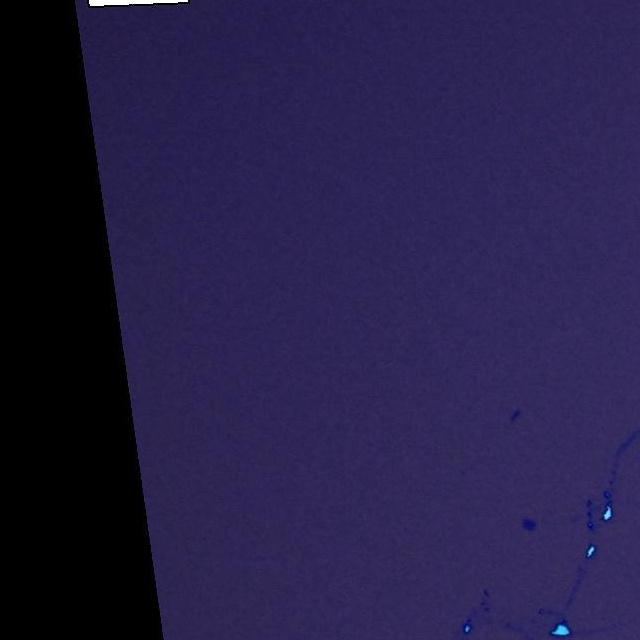monolayer-eWW4: (522, 518, 535, 530)
